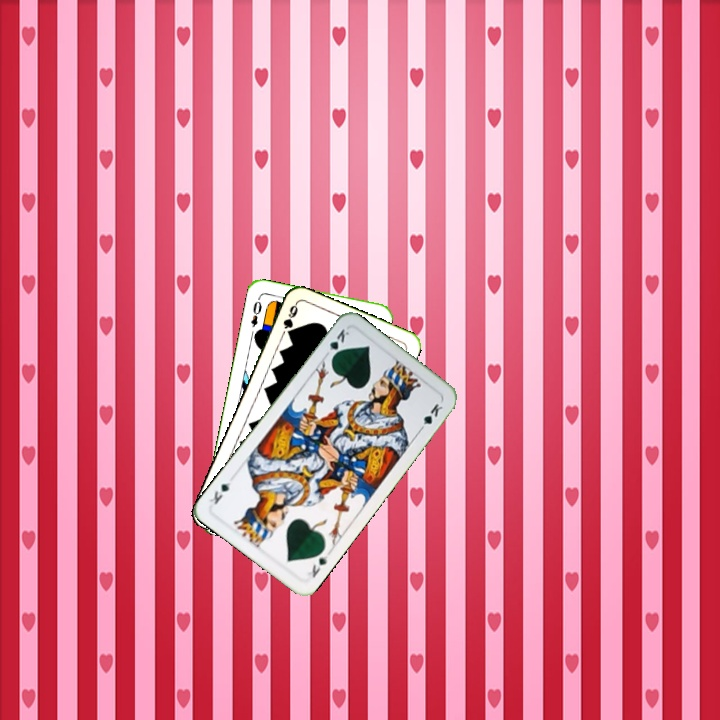EO: (247, 297, 264, 330)
G9: (278, 300, 300, 339)
GK: (324, 324, 352, 362), (303, 550, 331, 581)
